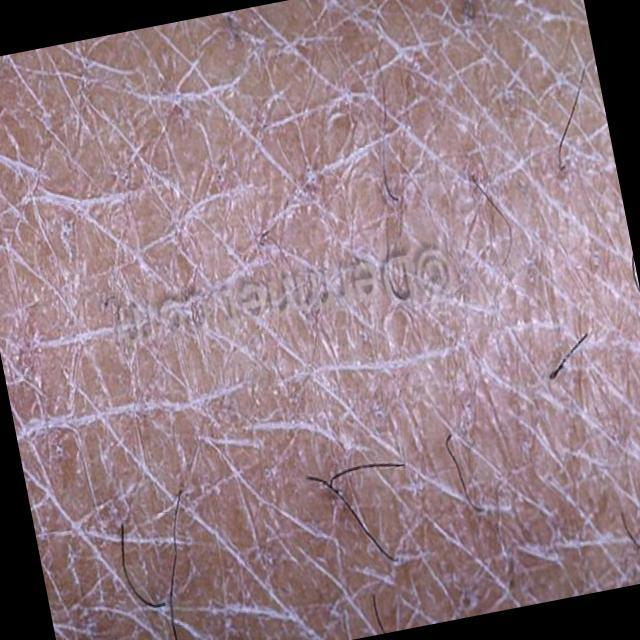Eczema: (28, 55, 640, 629)
